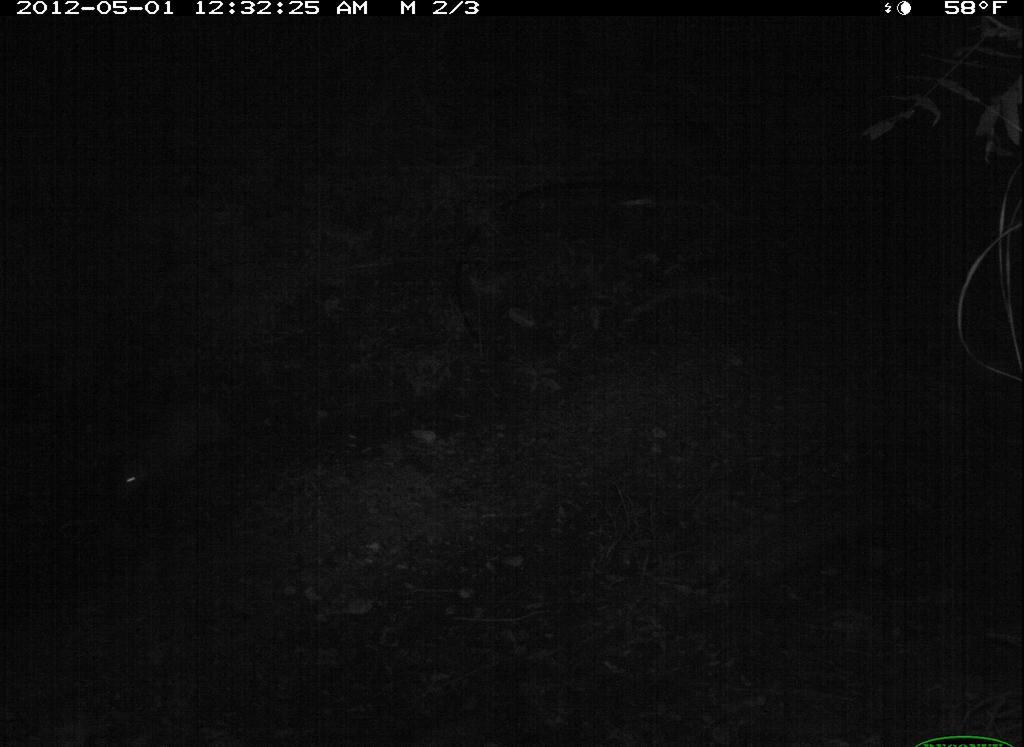opossum: (93, 387, 272, 525)
